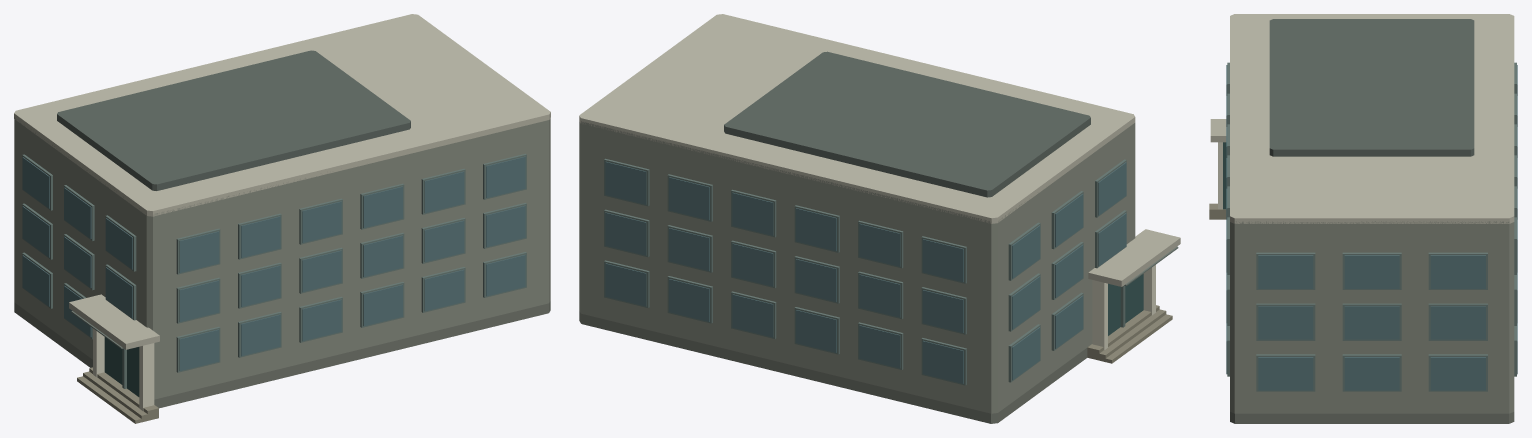
Rendered from logistics.glb.
The picture shows the model from 3 angles, left to right: view 1: azimuth 30°, elevation 25°; view 2: azimuth 150°, elevation 25°; view 3: azimuth 270°, elevation 25°; orthographic projection. The views are drawn at different scales.
Parts seen in each view (by area): view 1: form, glaze, relief, glowing; view 2: form, glaze, relief, glowing; view 3: form, glaze, relief, glowing.
Part boxes in pixels (x1,y1,x2,y2): form: (14, 14, 550, 423); glaze: (22, 156, 525, 396); relief: (22, 153, 526, 410); glowing: (64, 220, 464, 356); form: (579, 14, 1180, 423); glaze: (605, 161, 1143, 383); relief: (604, 158, 1178, 385); glowing: (669, 274, 1083, 348); form: (1209, 14, 1514, 423); glaze: (1223, 65, 1517, 390); relief: (1218, 62, 1516, 391); glowing: (1344, 357, 1399, 390).
Size of the model in its own units: 18.54 by 8.27 by 10.86.
